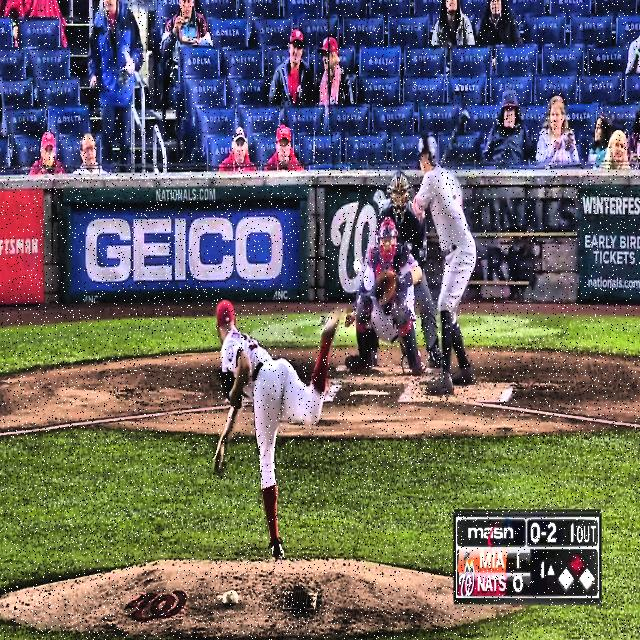baseball: (352, 258, 362, 274)
